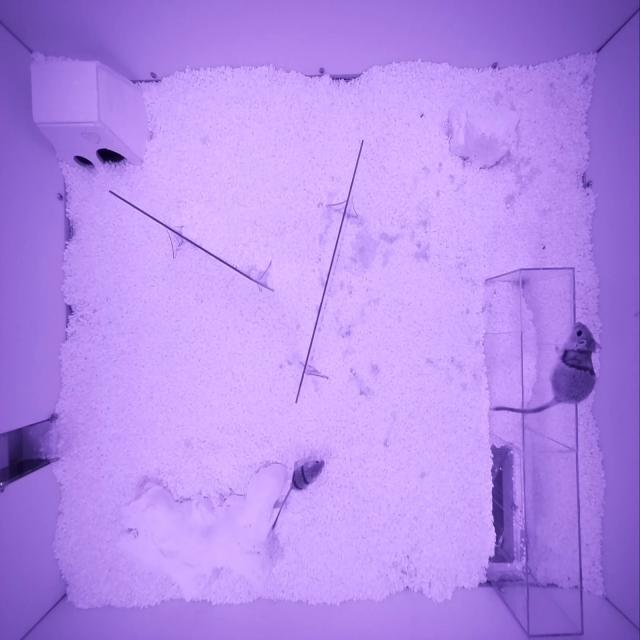adult_front: (551, 322, 604, 402)
pup_h_stripe: (291, 460, 324, 491)
